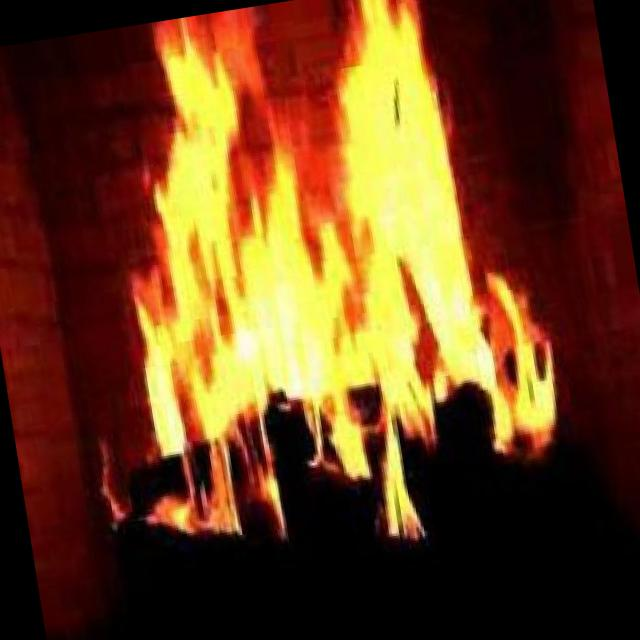Fire: (14, 0, 588, 599)
